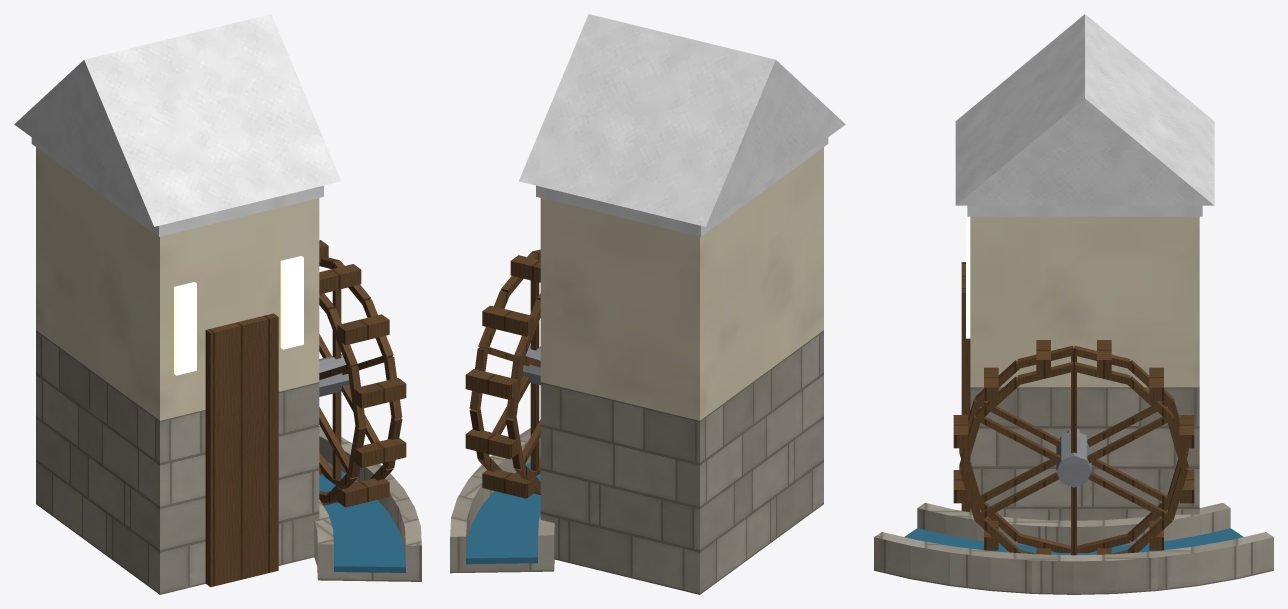
Rendered from protocol.curve.glb.
3 renders of one model, left to right at view 1: azimuth 30°, elevation 25°; view 2: azimuth 150°, elevation 25°; view 3: azimuth 270°, elevation 25°, orthographic. The views are drawn at different scales.
Parts seen in each view (by area): view 1: building.protocol.curve, wheel; view 2: building.protocol.curve, wheel; view 3: building.protocol.curve, wheel.
Boxes of the visible parts, box(x1,y1,x2,y2) form: building.protocol.curve: box(14, 14, 421, 594); wheel: box(319, 240, 406, 507); building.protocol.curve: box(450, 14, 845, 594); wheel: box(465, 249, 540, 498); building.protocol.curve: box(874, 14, 1273, 594); wheel: box(953, 340, 1194, 555).
Size of the model in its own units: 2 by 3.4 by 2.7.
8 materials, 6 textured.
